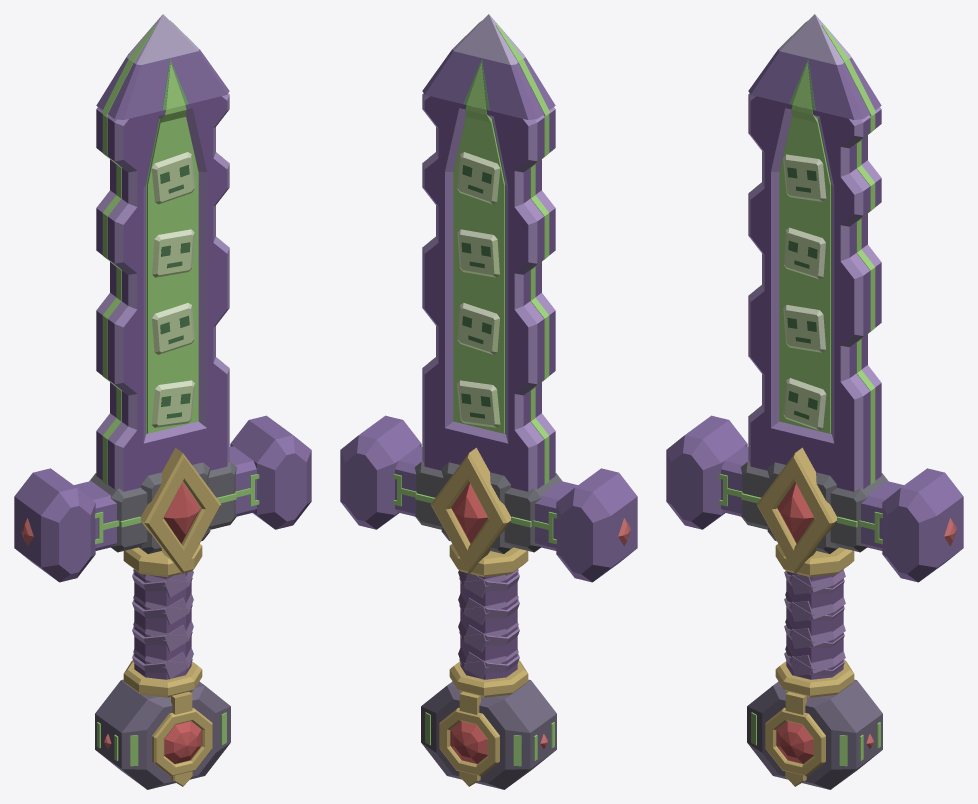
Rendered from broodsplit_blade_roblox.glb.
The picture shows the model from 3 angles, left to right: view 1: azimuth 30°, elevation 25°; view 2: azimuth 150°, elevation 25°; view 3: azimuth 330°, elevation 25°; orthographic projection.
Parts seen in each view (by area): view 1: Blade, Gems; view 2: Blade, Gems; view 3: Blade, Gems.
Boxes of the visible parts, <box> form: Blade: <box>14,14,311,789</box>; Gems: <box>21,20,259,766</box>; Blade: <box>340,14,637,789</box>; Gems: <box>392,20,630,766</box>; Blade: <box>666,14,963,789</box>; Gems: <box>718,20,956,766</box>.
Size of the model in its own units: 0.486 by 1.26 by 0.15.
